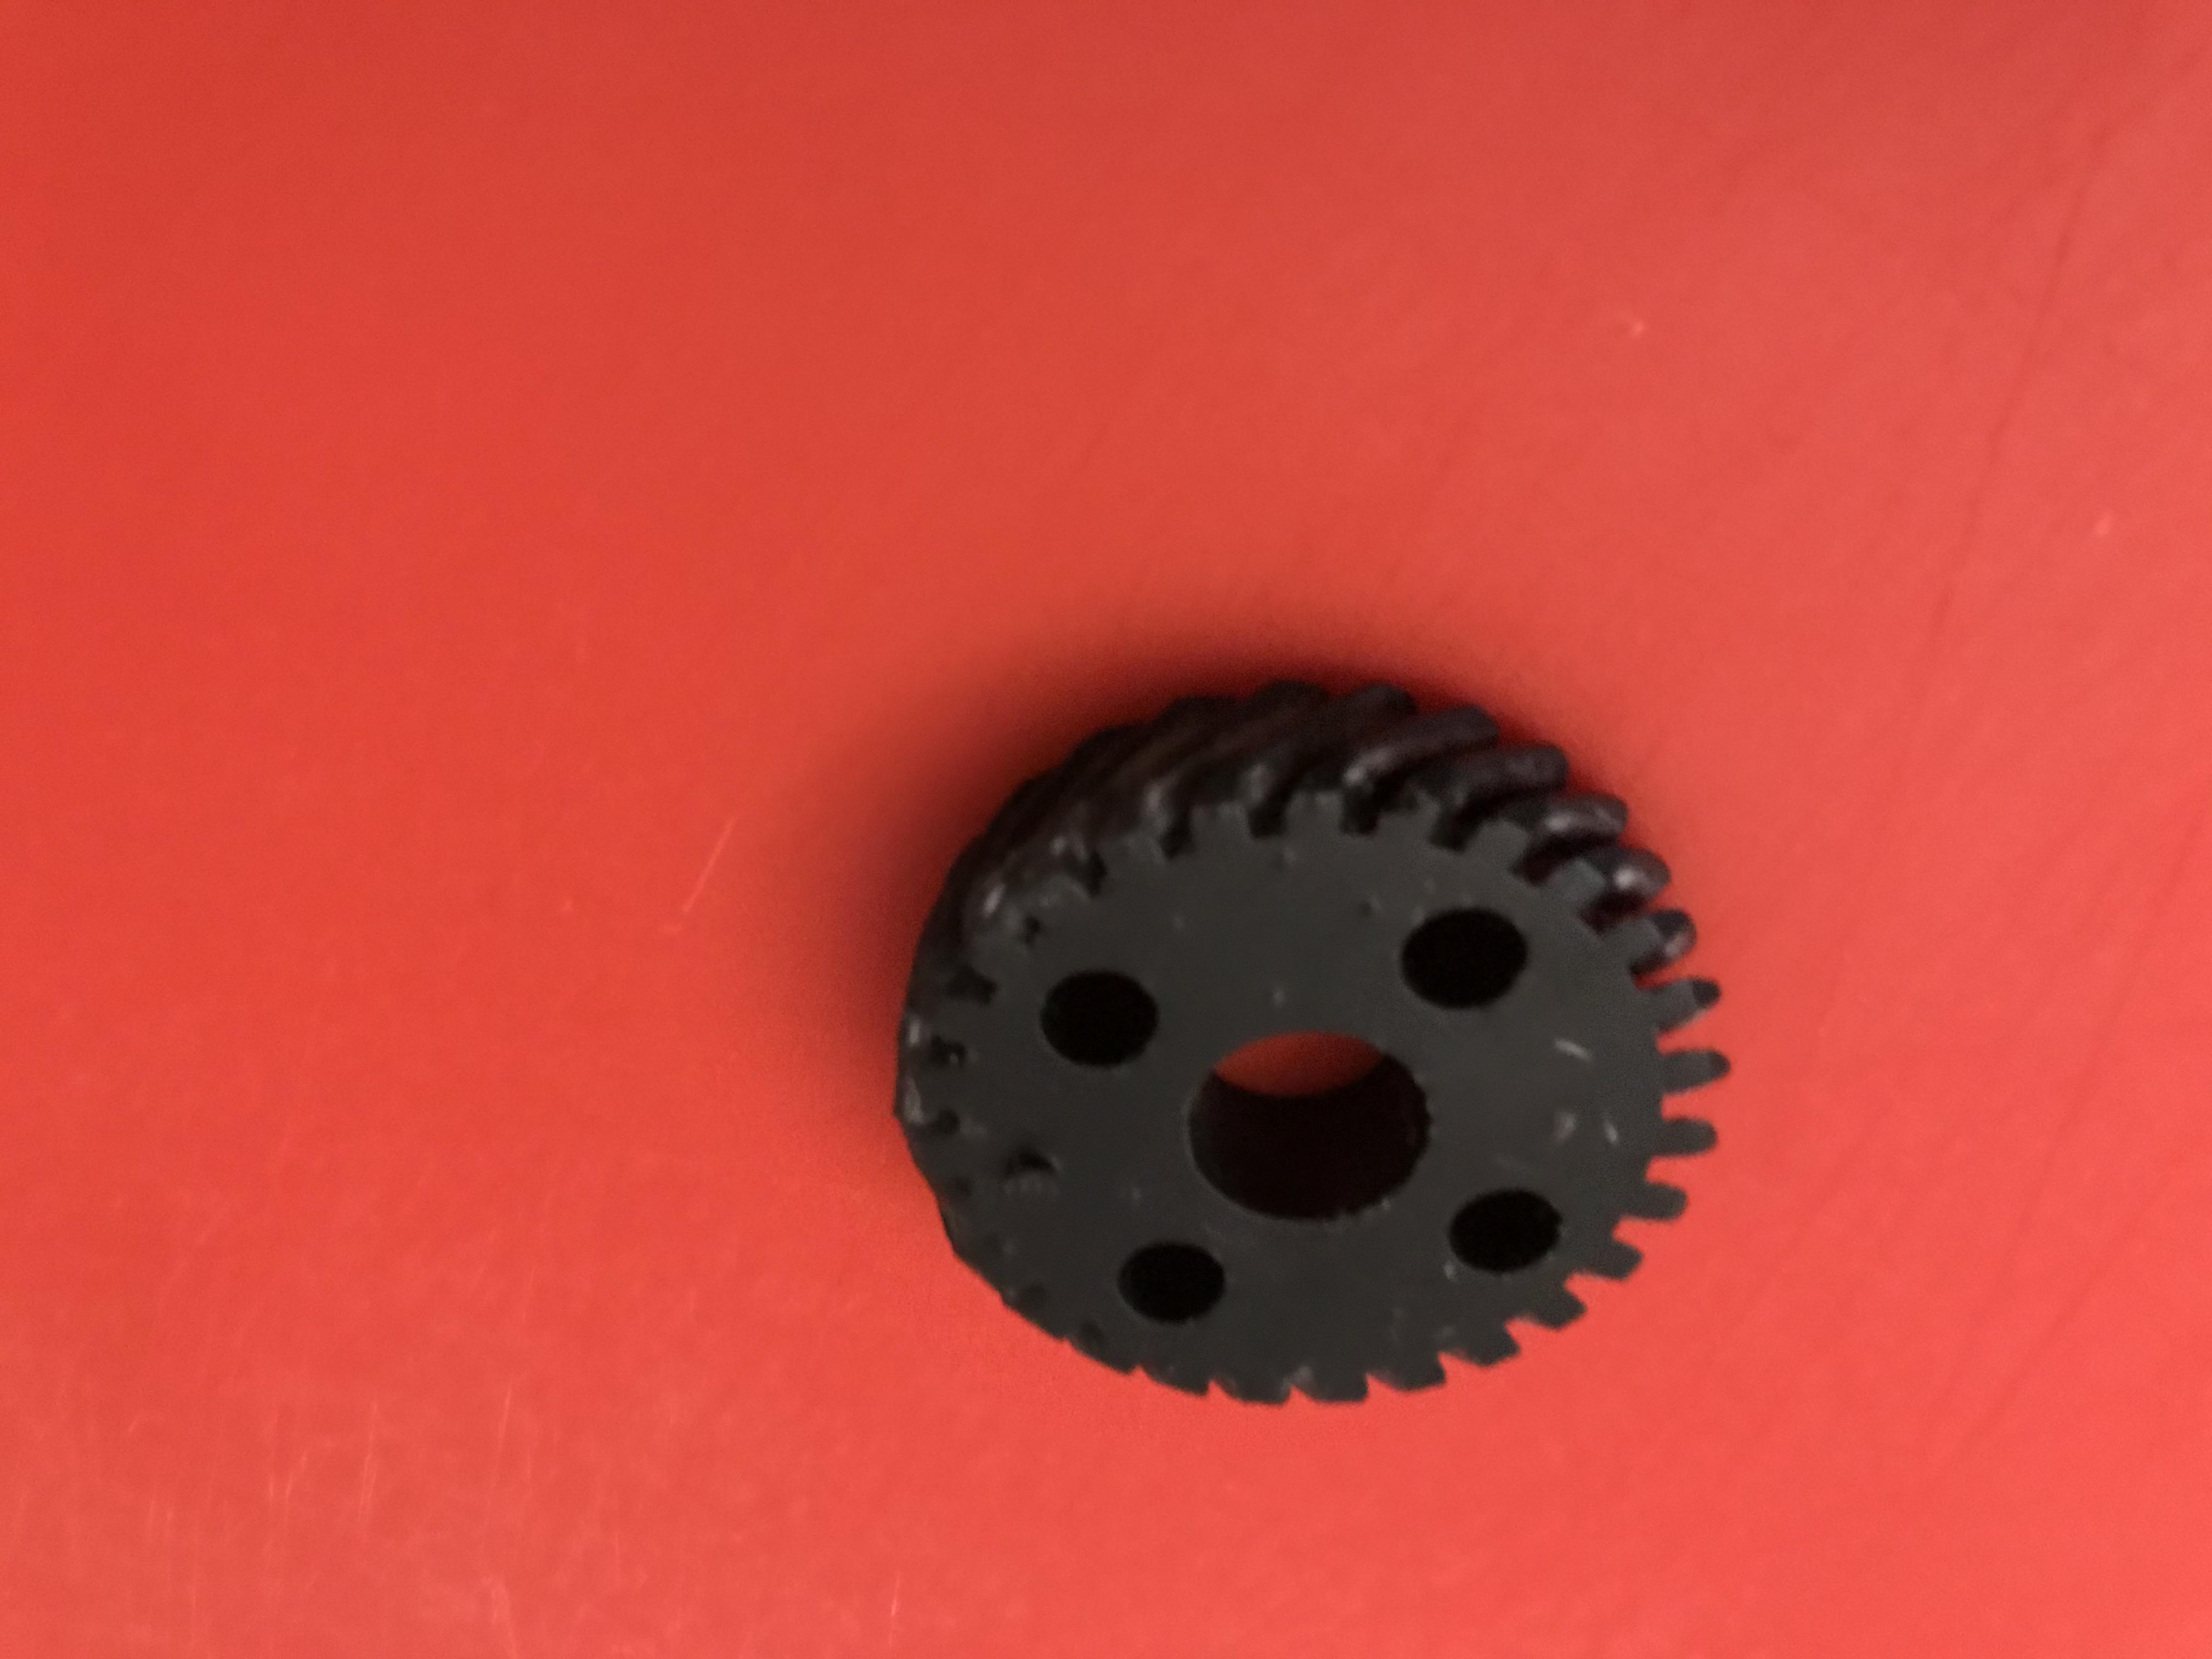Wheel: (871, 660, 1742, 1429)
